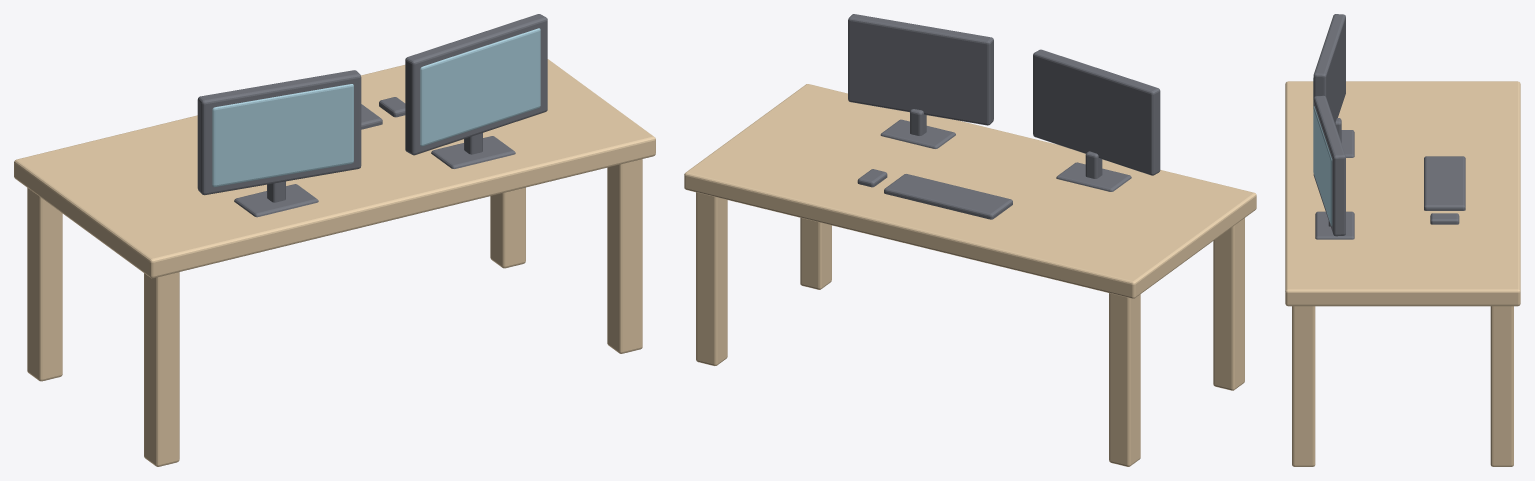
File: Workstation.fbx
3 views of the same model, side by side, from view 1: azimuth 30°, elevation 25°; view 2: azimuth 150°, elevation 25°; view 3: azimuth 270°, elevation 25° (orthographic). The views are drawn at different scales.
Parts seen in each view (by area): view 1: Workstation; view 2: Workstation; view 3: Workstation.
Part boxes in pixels (bbox=[...]): Workstation: bbox=[14, 14, 655, 466]; Workstation: bbox=[684, 14, 1256, 466]; Workstation: bbox=[1285, 14, 1520, 466].
Bounding box in the file's own units: 1.9 × 1.19 × 0.9.
